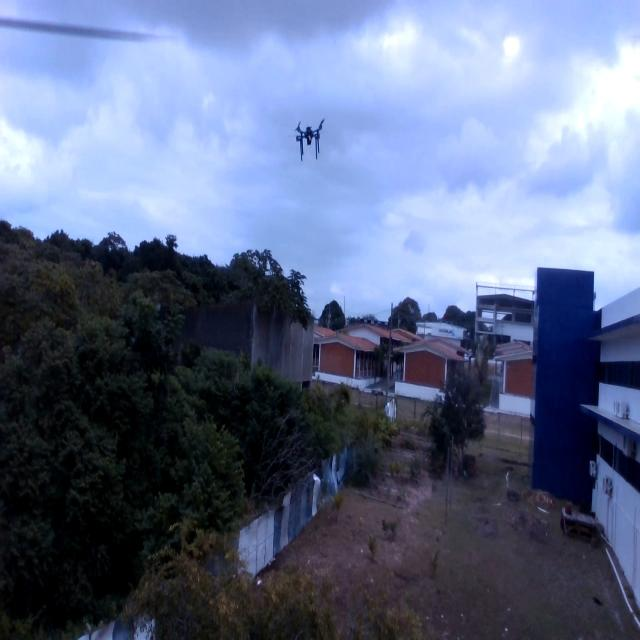-uav-: (288, 117, 341, 175)
